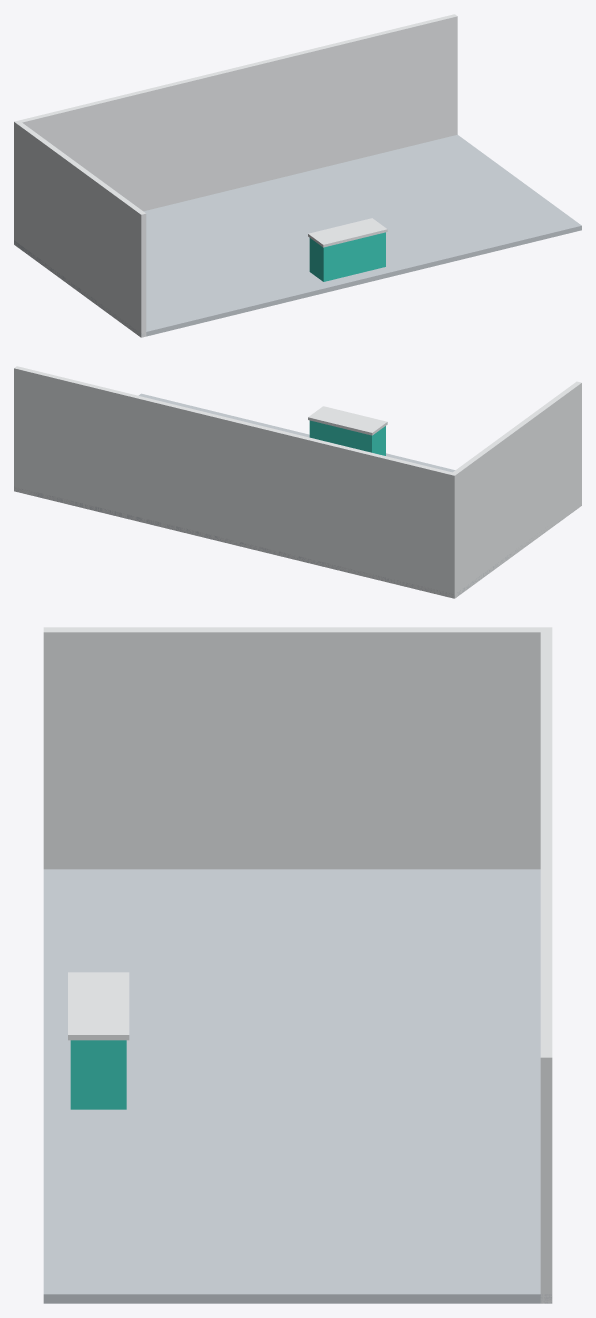
3 views of the same model, one above another, from view 1: azimuth 30°, elevation 25°; view 2: azimuth 150°, elevation 25°; view 3: azimuth 270°, elevation 25° (orthographic). The views are drawn at different scales.
Parts seen in each view (by area): view 1: Exhibition Booth Concept; view 2: Exhibition Booth Concept; view 3: Exhibition Booth Concept.
Part boxes in pixels (x1,y1,x2,y2): Exhibition Booth Concept: (14,14,581,337); Exhibition Booth Concept: (14,366,581,598); Exhibition Booth Concept: (43,627,552,1303).
Bounding box in the file's own units: 12 × 3.2 × 6.
